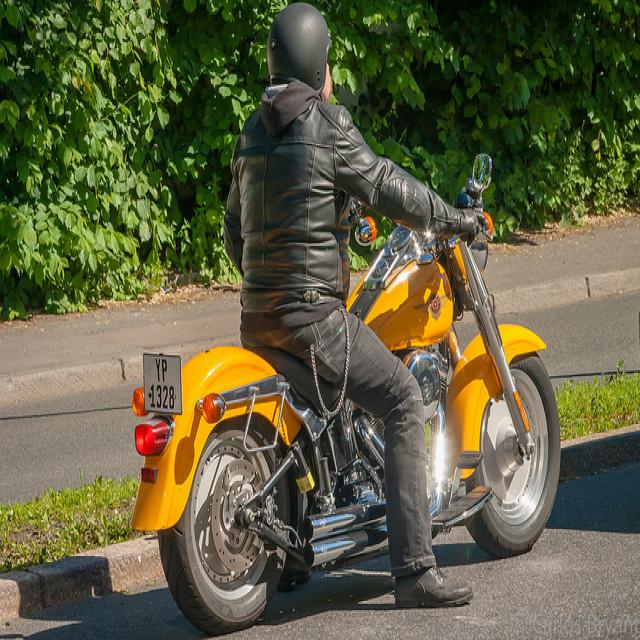motor: (129, 151, 563, 634)
